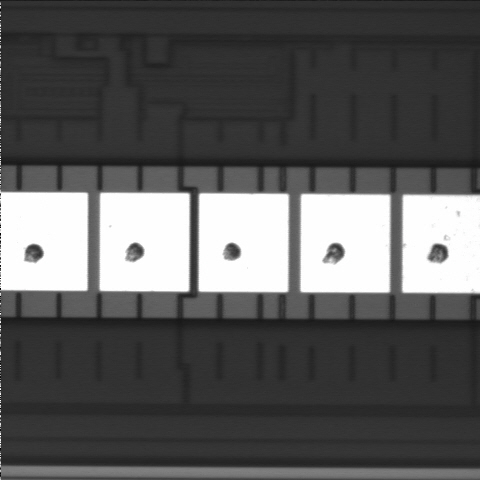pad: (199, 193, 289, 292), (300, 194, 390, 293), (100, 193, 189, 292)
